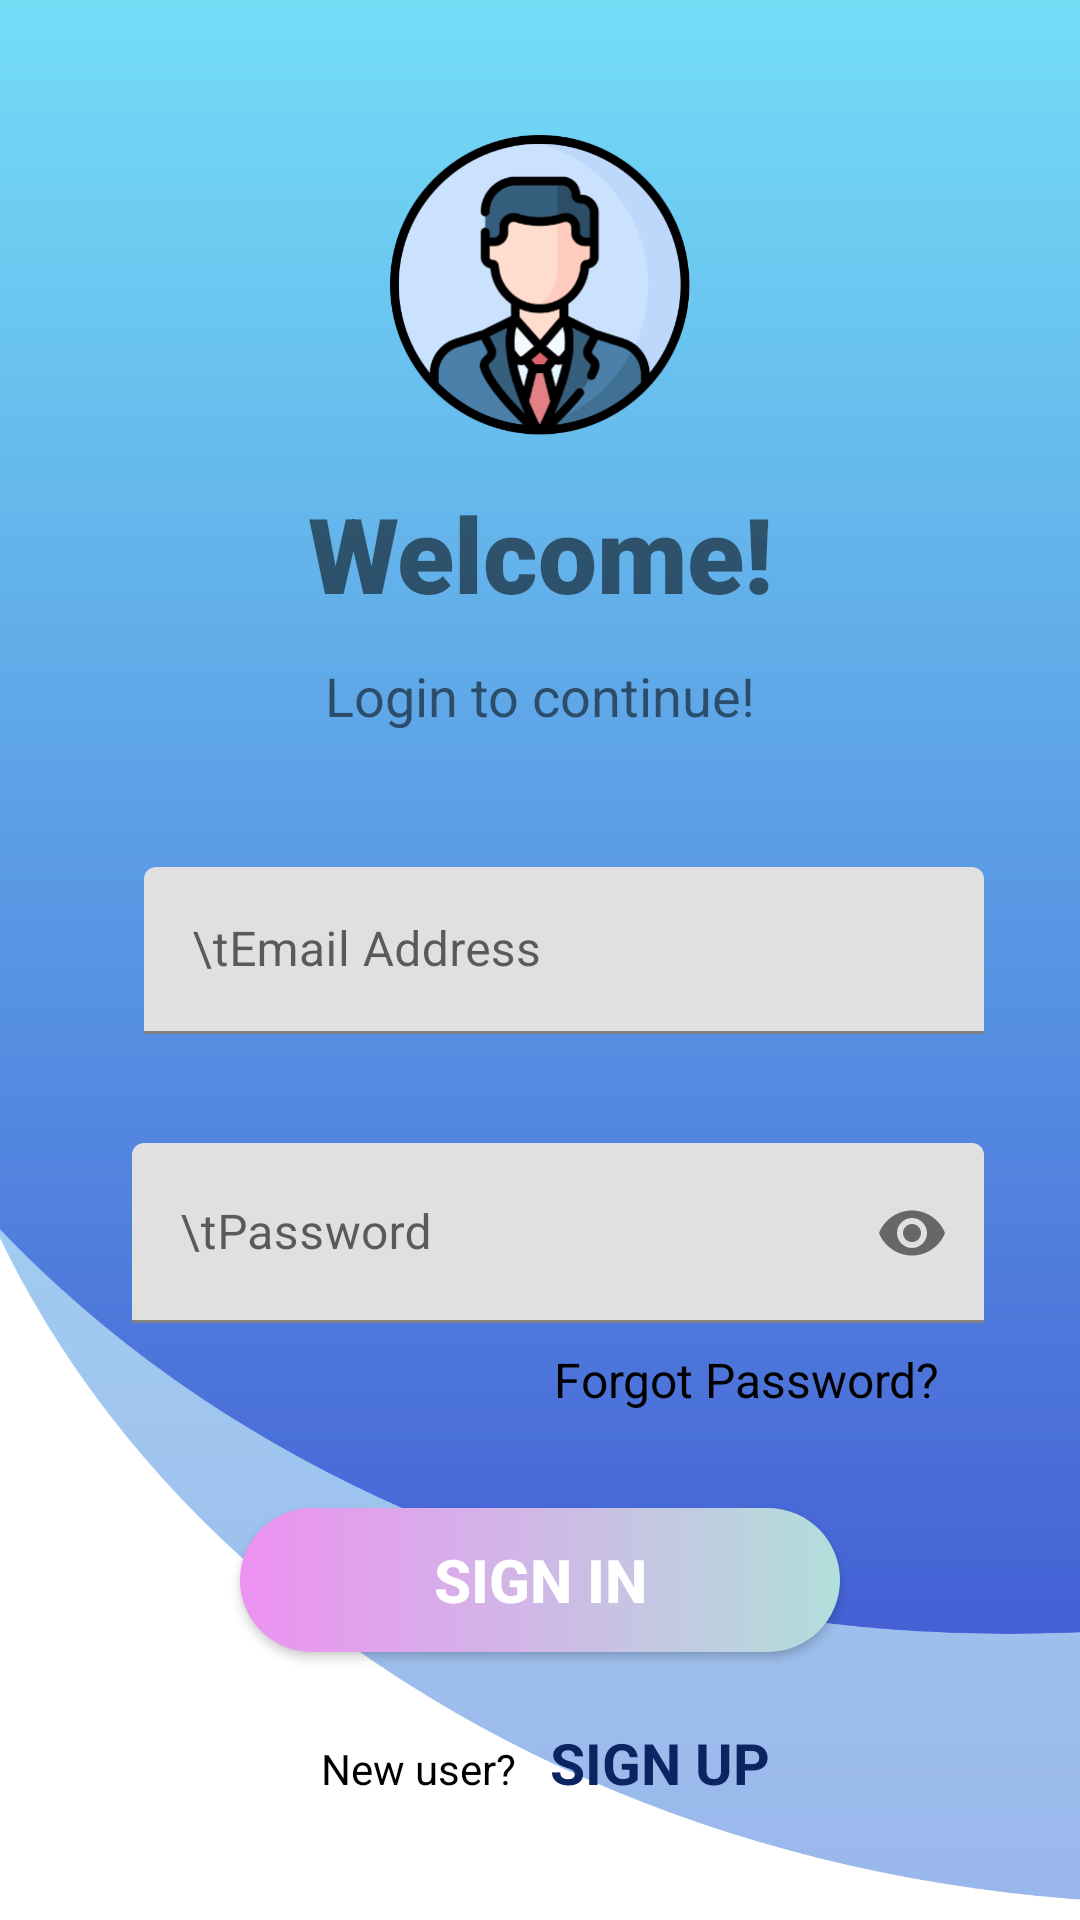

Icon bounding boxes for this 1080*1920 phone screenshot, format (x1, y1, x2, y2):
profile: (390, 135, 690, 435)
